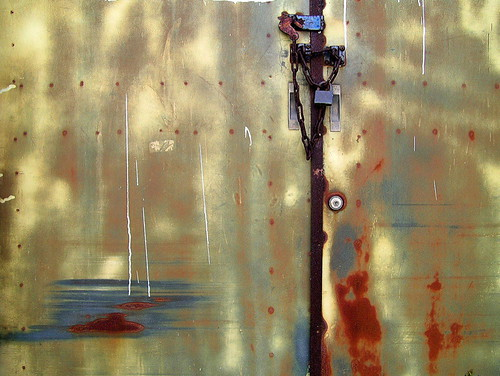lock: (280, 43, 359, 133)
